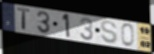0: (120, 23, 137, 48)
1: (61, 13, 71, 39)
3: (36, 11, 52, 35), (80, 17, 94, 41)
S: (100, 20, 119, 45)
T: (17, 7, 32, 31)
